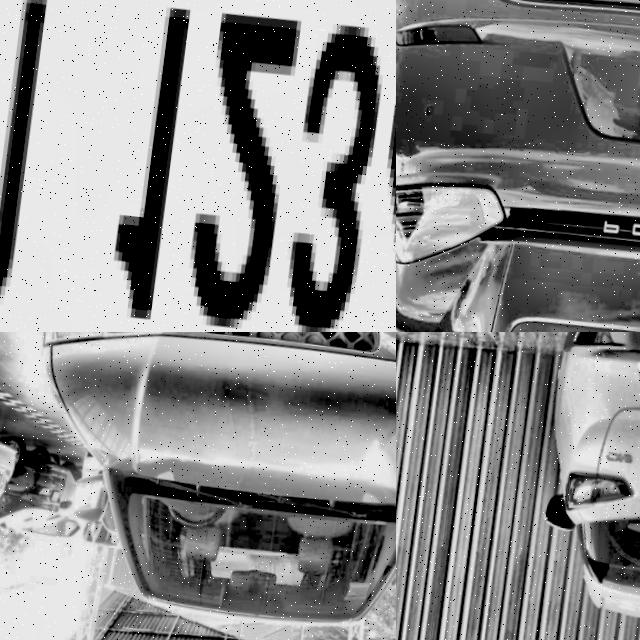license-plate: (0, 0, 396, 332), (49, 488, 62, 503), (0, 468, 6, 490)
